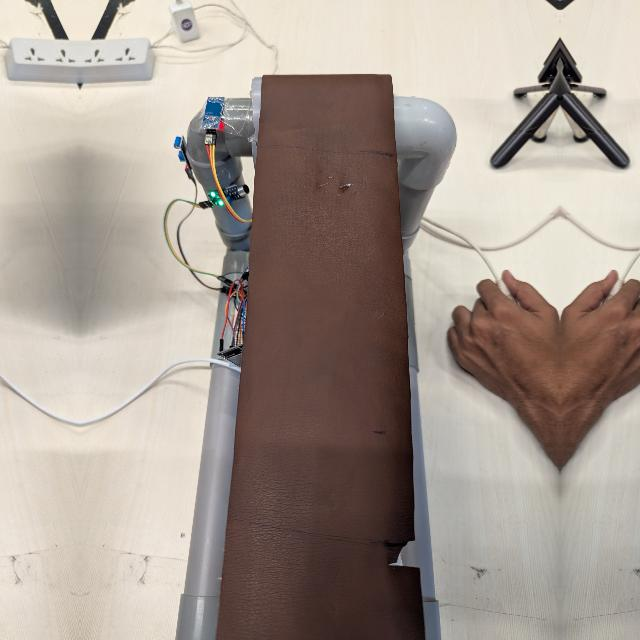belt_crack: (289, 161, 385, 215)
belt_tear: (390, 528, 419, 595)
